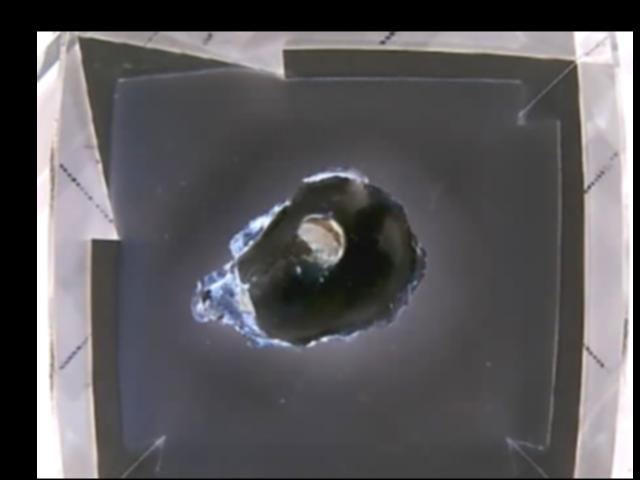Shell: (192, 166, 428, 345)
